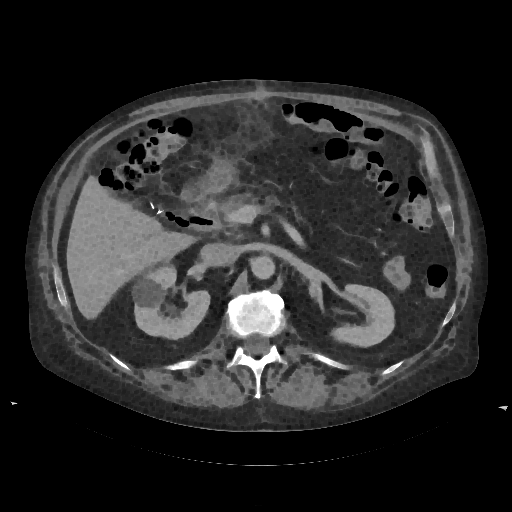Lesion: (129, 272, 169, 313)
